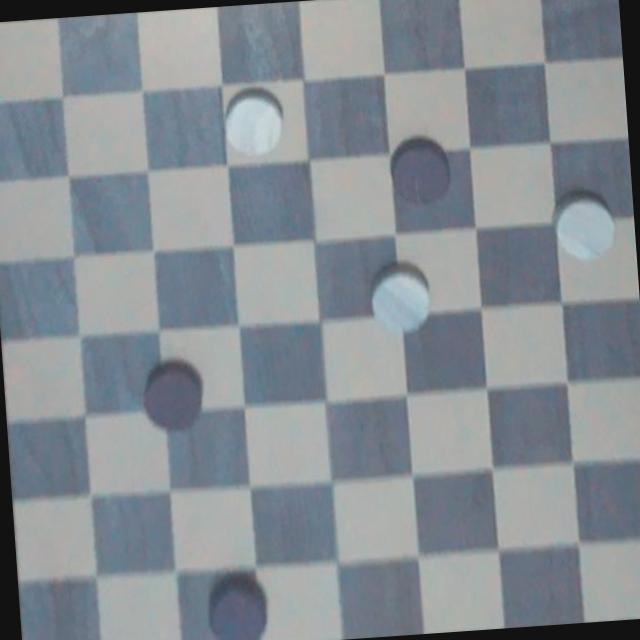BOARD: (0, 0, 640, 640)
black: (136, 348, 213, 434), (198, 566, 277, 640), (386, 132, 456, 210)
white: (544, 182, 626, 266), (366, 254, 438, 344), (219, 79, 294, 164)
